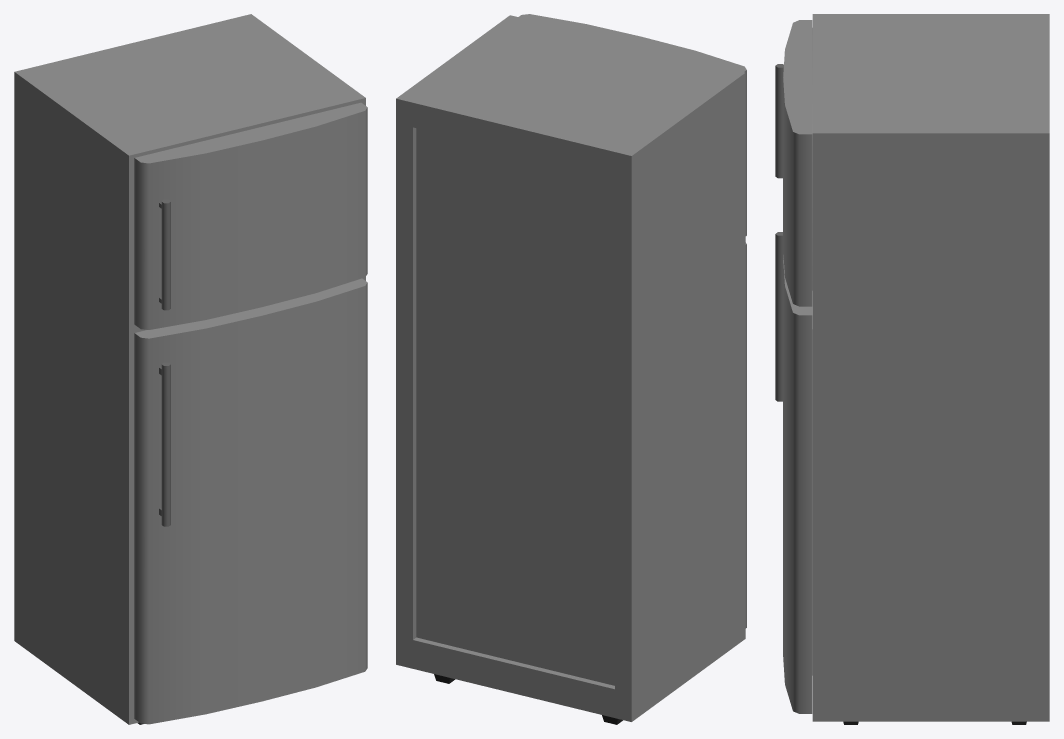
Rendered from fridge.fbx.
3 renders of one model, left to right at view 1: azimuth 30°, elevation 25°; view 2: azimuth 150°, elevation 25°; view 3: azimuth 270°, elevation 25°, orthographic. The views are drawn at different scales.
Visible parts, largest first — view 1: Fridge_01, polySurface36, polySurface26, polySurface44, polySurface30; view 2: Fridge_01, polySurface26, polySurface36; view 3: Fridge_01, polySurface36, polySurface26, polySurface44, polySurface30.
Part boxes in pixels (left/top/right/bottom): Fridge_01: left=14, top=14, right=365, bottom=724; polySurface36: left=134, top=278, right=367, bottom=724; polySurface26: left=134, top=102, right=367, bottom=329; polySurface44: left=161, top=362, right=170, bottom=526; polySurface30: left=161, top=199, right=170, bottom=310; Fridge_01: left=396, top=15, right=745, bottom=724; polySurface26: left=518, top=14, right=746, bottom=235; polySurface36: left=745, top=242, right=746, bottom=628; Fridge_01: left=812, top=14, right=1049, bottom=724; polySurface36: left=783, top=255, right=812, bottom=713; polySurface26: left=783, top=20, right=812, bottom=306; polySurface44: left=775, top=232, right=783, bottom=401; polySurface30: left=775, top=64, right=783, bottom=178.
Size of the model in its own units: 77.07 by 182 by 74.77.
